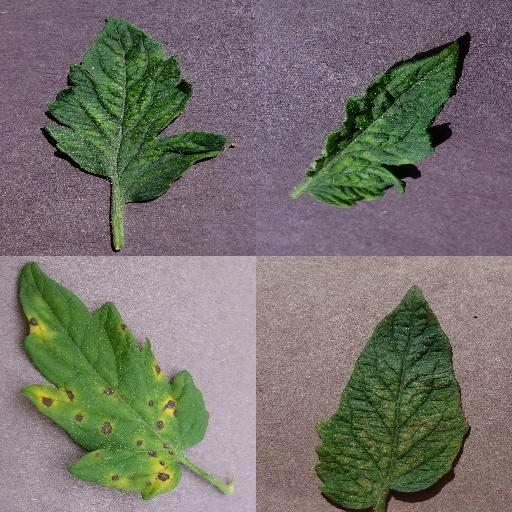Mosaic Virus: (43, 17, 229, 203), (305, 37, 461, 209)
Septoria: (20, 261, 209, 499)
Spider Mites: (314, 284, 468, 512)
